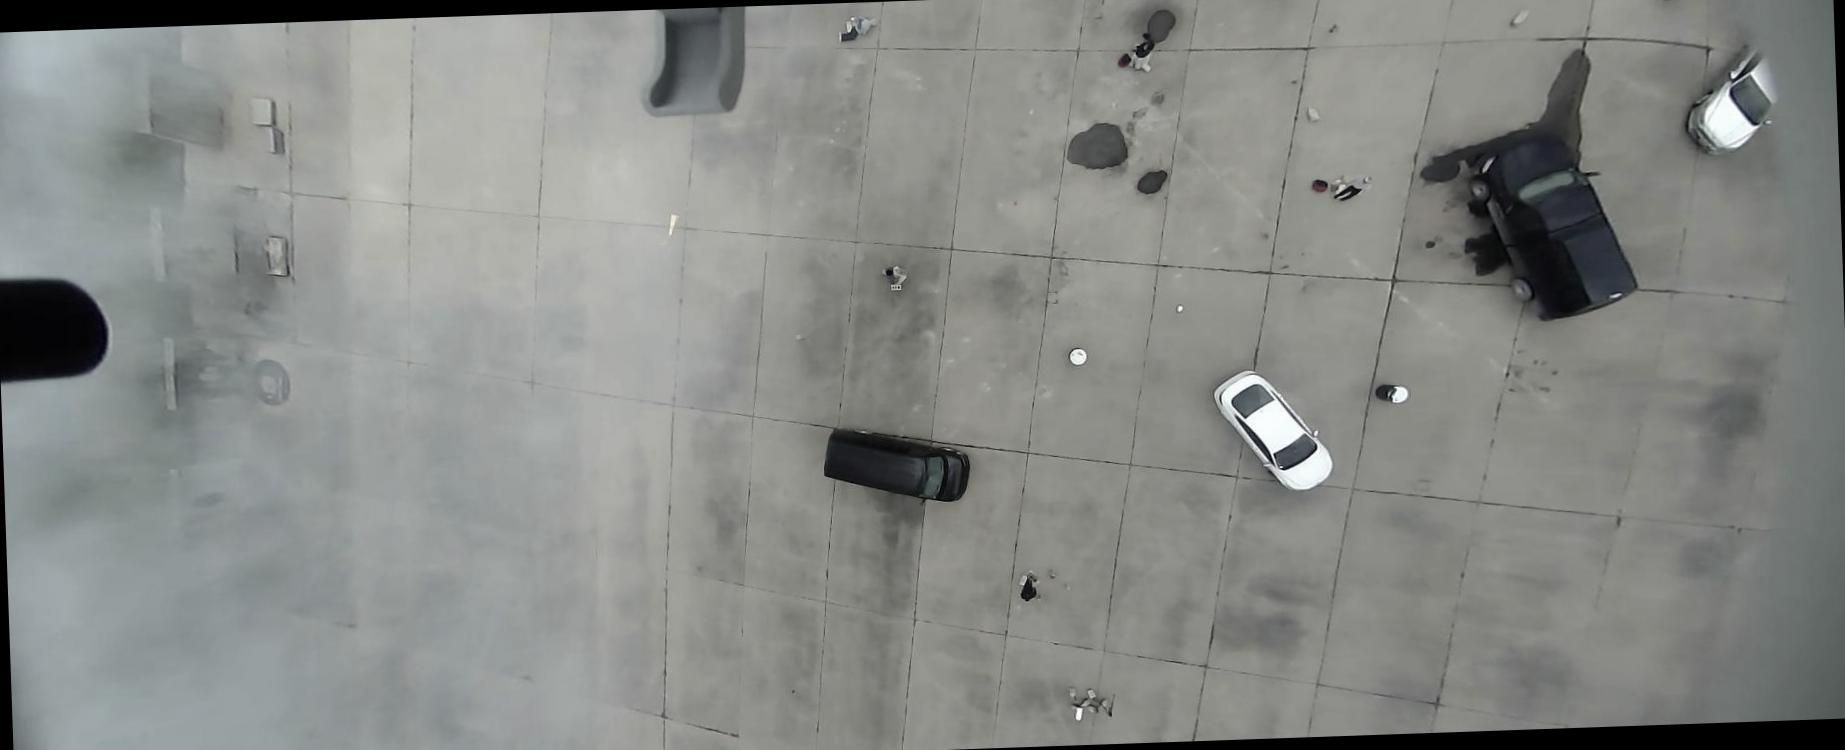vehicle: (1465, 131, 1640, 323), (1212, 366, 1336, 495), (821, 423, 972, 509), (1683, 41, 1781, 155)
